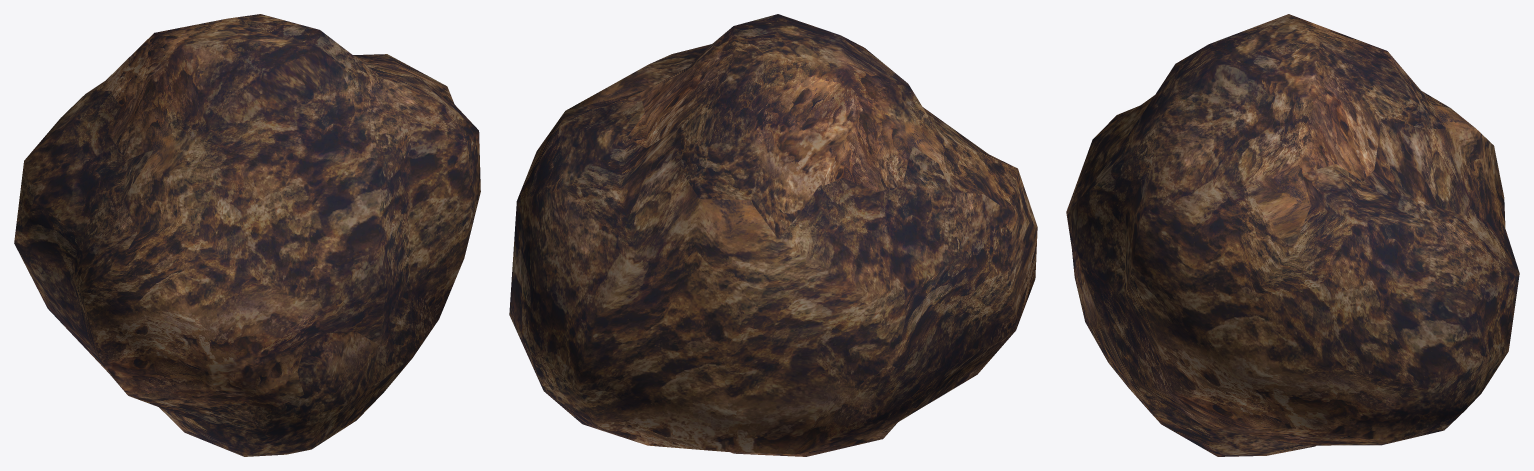
Rendered from stg600_obj_meteoriteA03.obj.
3 views of the same model, side by side, from view 1: azimuth 30°, elevation 25°; view 2: azimuth 150°, elevation 25°; view 3: azimuth 270°, elevation 25° (orthographic). The views are drawn at different scales.
Parts seen in each view (by area): view 1: polygon0; view 2: polygon0; view 3: polygon0.
Boxes of the visible parts, left/top/right/bottom form: polygon0: left=14, top=14, right=480, bottom=456; polygon0: left=509, top=14, right=1037, bottom=456; polygon0: left=1066, top=14, right=1519, bottom=456.
Size of the model in its own units: 142 by 133 by 135.
Materials: 1 (1 with a texture image).
